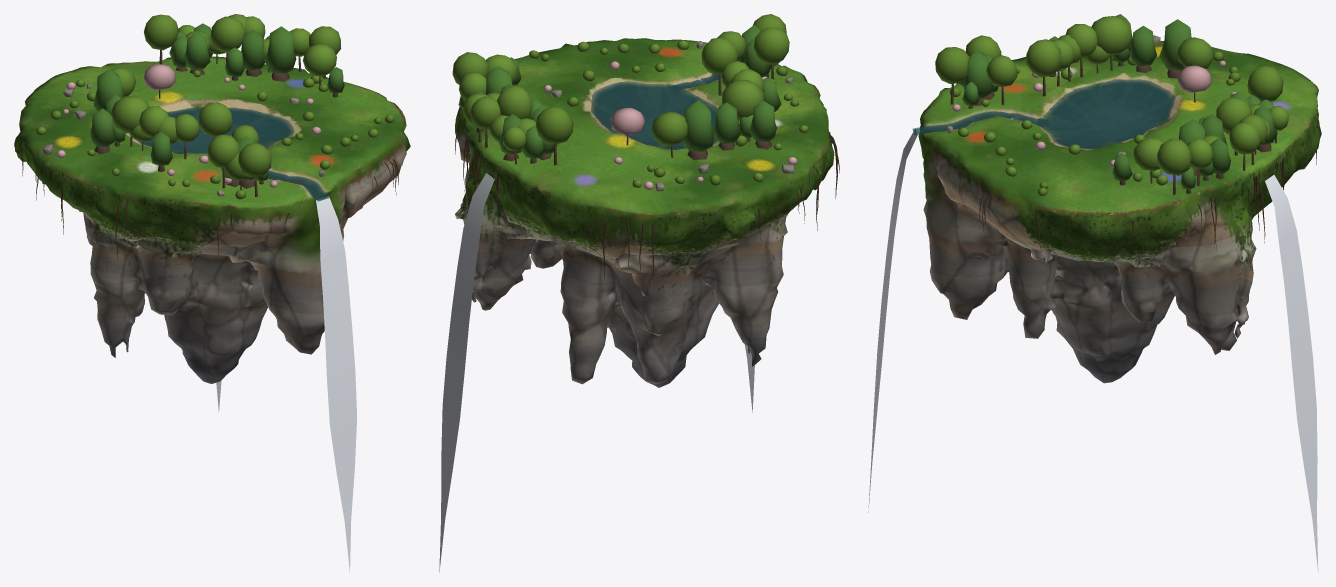
File: island-lake-lod1.glb
The picture shows the model from 3 angles, left to right: view 1: azimuth 30°, elevation 25°; view 2: azimuth 150°, elevation 25°; view 3: azimuth 270°, elevation 25°; orthographic projection. The views are drawn at different scales.
Parts seen in each view (by area): view 1: Terrain, Detail, Pond, Stream; view 2: Terrain, Detail, Pond; view 3: Terrain, Detail, Pond, Stream.
Part boxes in pixels (<box>): Terrain: <box>14,56,410,383</box>; Detail: <box>21,14,403,571</box>; Pond: <box>129,107,294,154</box>; Stream: <box>268,170,329,201</box>; Terrain: <box>455,38,834,387</box>; Detail: <box>439,14,839,572</box>; Pond: <box>591,81,717,149</box>; Terrain: <box>918,41,1321,383</box>; Detail: <box>868,14,1321,572</box>; Pond: <box>1038,79,1175,149</box>; Stream: <box>912,111,1045,135</box>.
Bounding box in the file's own units: 89.39 × 111 × 98.36.
Materials: 4 (1 with a texture image).
